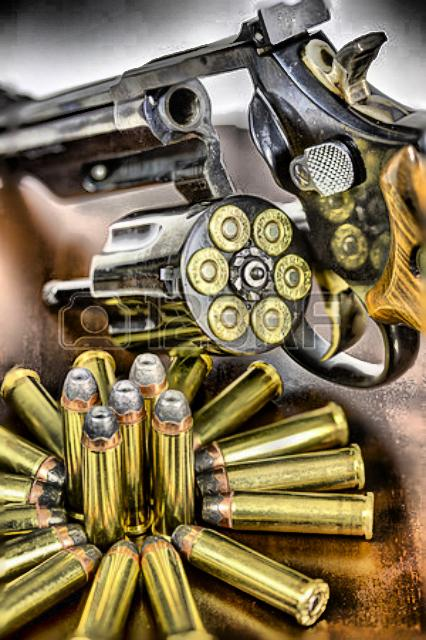pistol: (0, 0, 422, 384)
